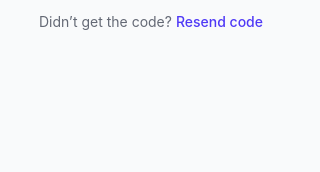
Test: ResendCode › reports a failed resend and allows another try straight away
Click the button "Resend code": (219, 22) top-left (176, 12), bottom-right (263, 32)
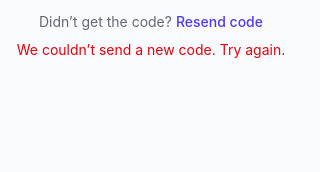
Expected: the message reads "We couldn’t send a new code. Try again.", top-left (17, 41), bottom-right (285, 58)
